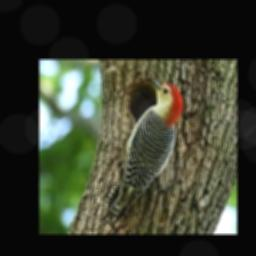Woodpecker: (98, 76, 183, 229)
